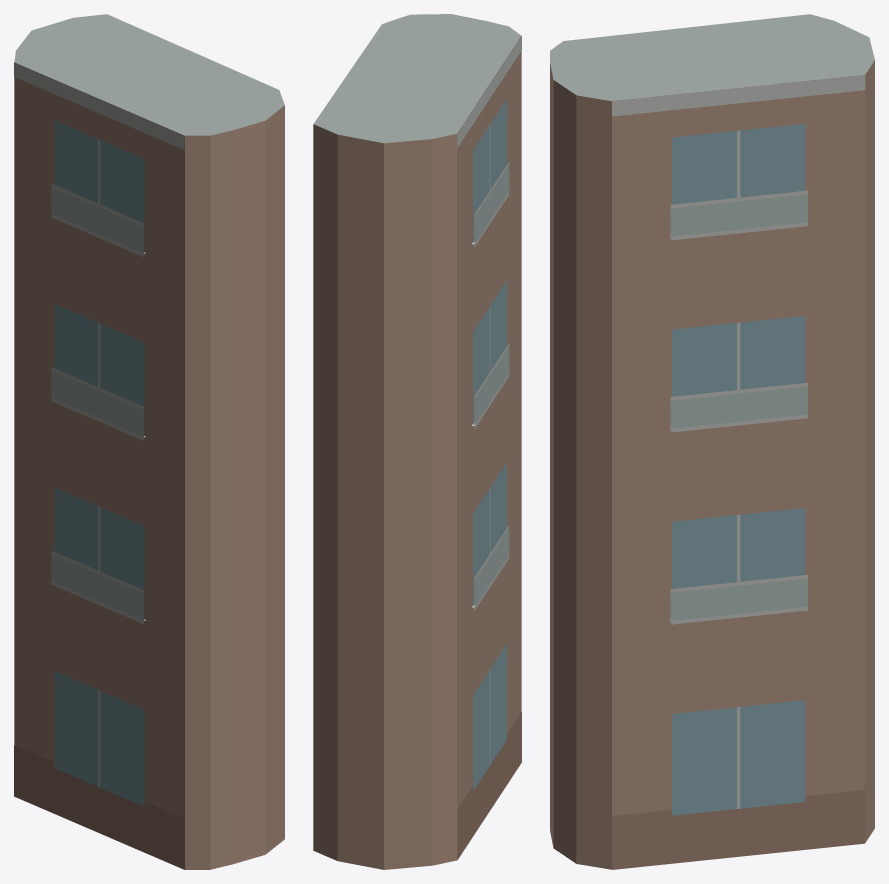
The model's file is survey-upis-32644536.glb.
The picture shows the model from 3 angles, left to right: view 1: azimuth 30°, elevation 25°; view 2: azimuth 150°, elevation 25°; view 3: azimuth 270°, elevation 25°; orthographic projection. The views are drawn at different scales.
Visible parts, largest first — view 1: survey-upis-32644536.tmp; view 2: survey-upis-32644536.tmp; view 3: survey-upis-32644536.tmp.
Part boxes in pixels (left/top/right/bottom): survey-upis-32644536.tmp: left=14, top=14, right=284, bottom=869; survey-upis-32644536.tmp: left=313, top=14, right=521, bottom=869; survey-upis-32644536.tmp: left=550, top=14, right=874, bottom=869.
Size of the model in its own units: 2.98 by 12.2 by 4.67.
